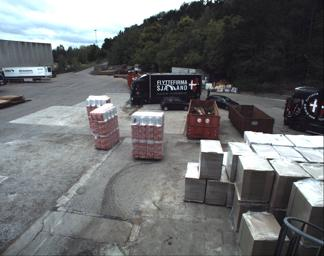rockwool_batts: (130, 109, 162, 159), (90, 103, 119, 149), (85, 95, 109, 122)
